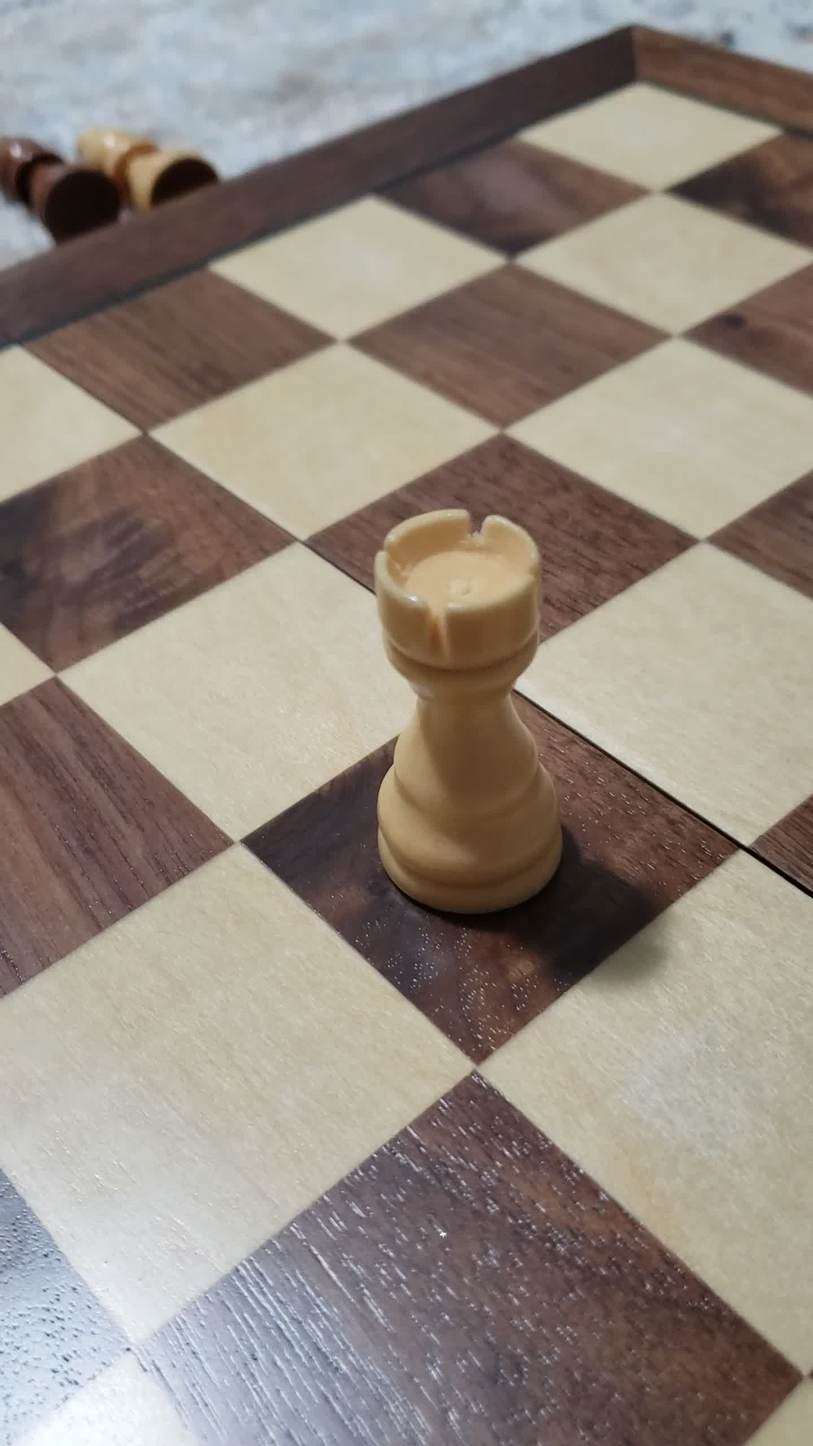white-rook: (330, 481, 600, 933)
